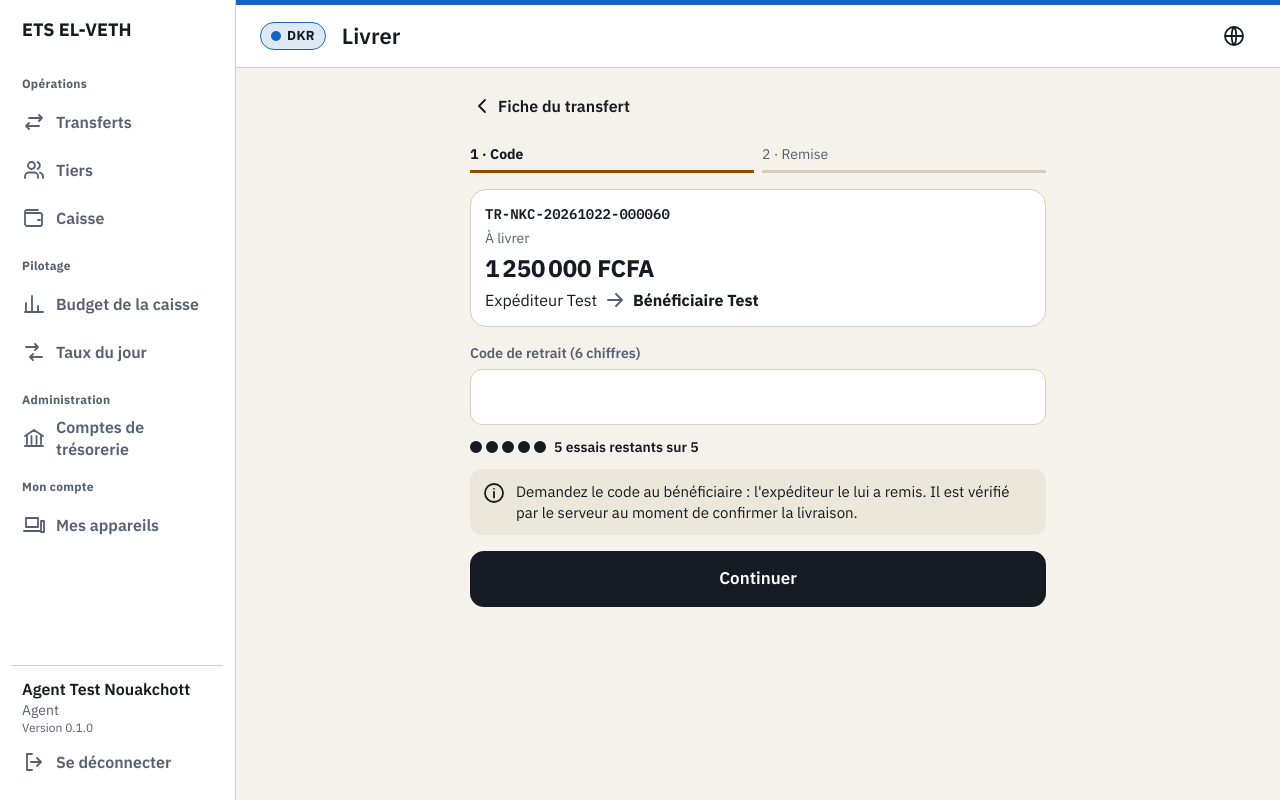
Livraison — agent de l’agence de destination › vérifie le format du code avant de continuer
Type "4829" into the field labelled "Code de retrait (6 chiffres)". click: coordinates (758, 397)
box: top-left (471, 371), bottom-right (1045, 423)
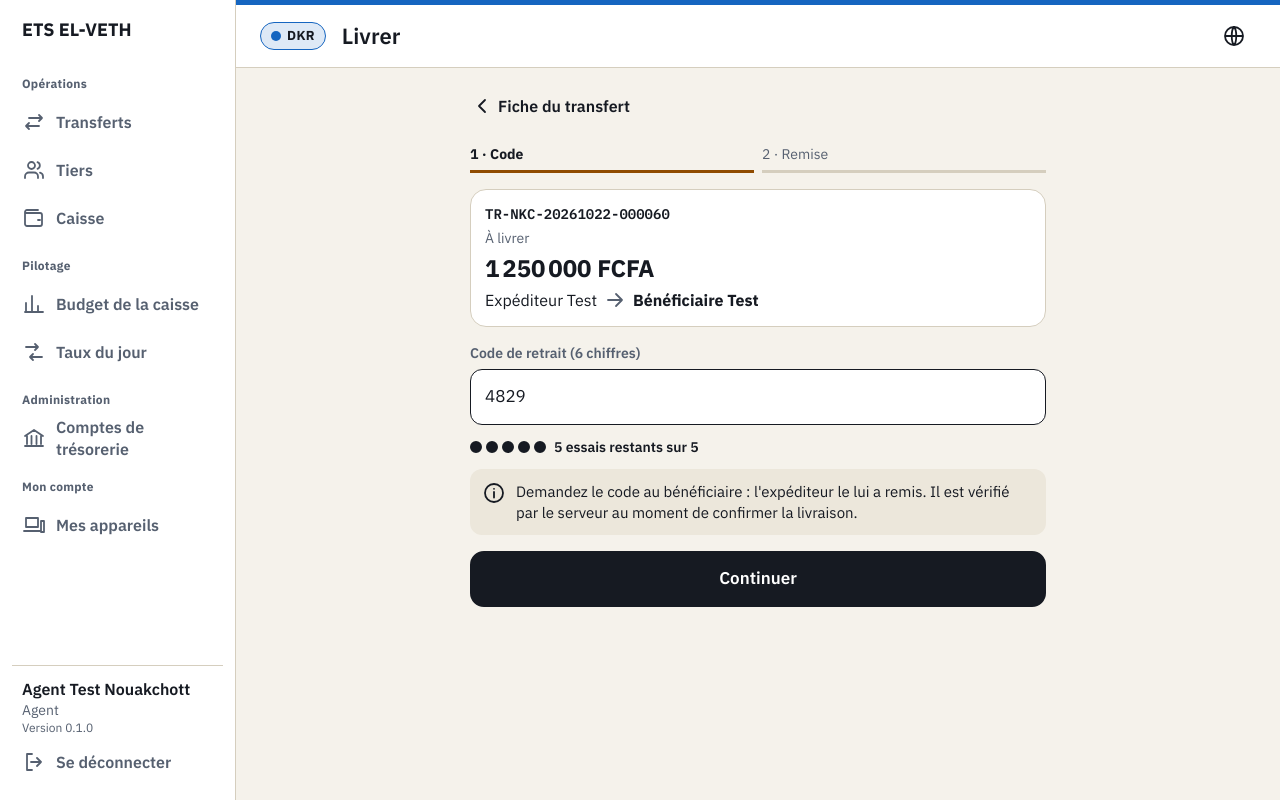
Click the button "Continuer". click: coordinates (758, 579)
box: top-left (470, 551), bottom-right (1046, 607)
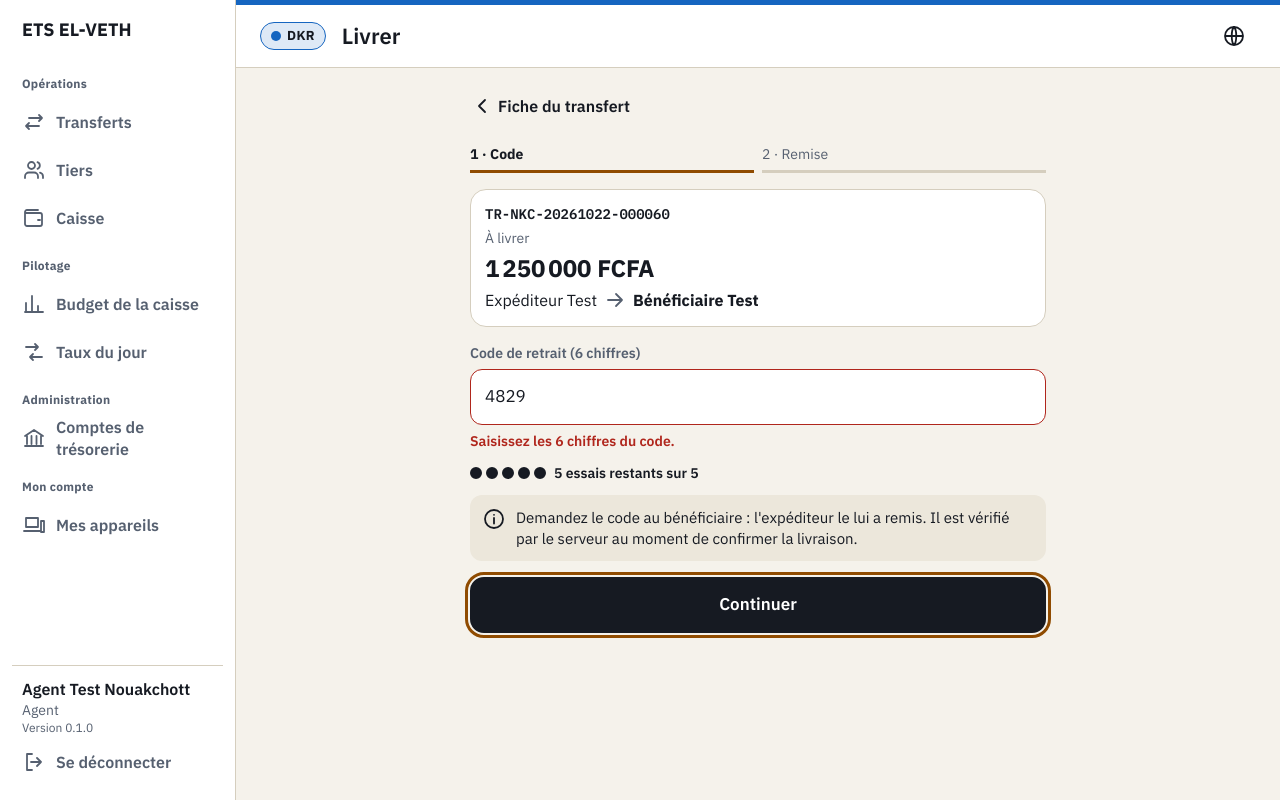
Expected: the text "Saisissez les 6 chiffres du code." is shown, top-left (470, 432), bottom-right (675, 450)
